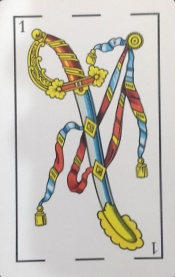1e: (10, 10, 162, 37)
